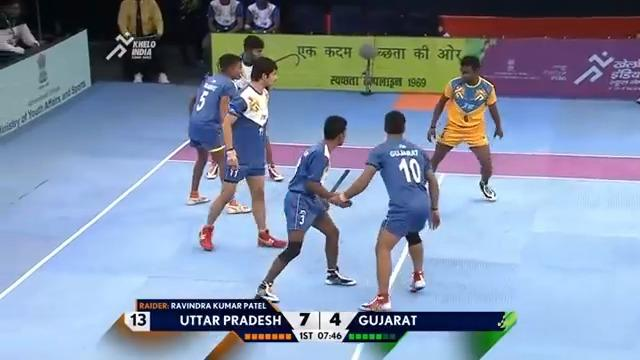Player: (331, 109, 441, 311), (254, 114, 356, 303), (198, 56, 287, 251), (185, 52, 252, 213), (234, 34, 284, 180)
Raider: (426, 56, 503, 202)
referee: (116, 0, 170, 84), (174, 0, 208, 67)
